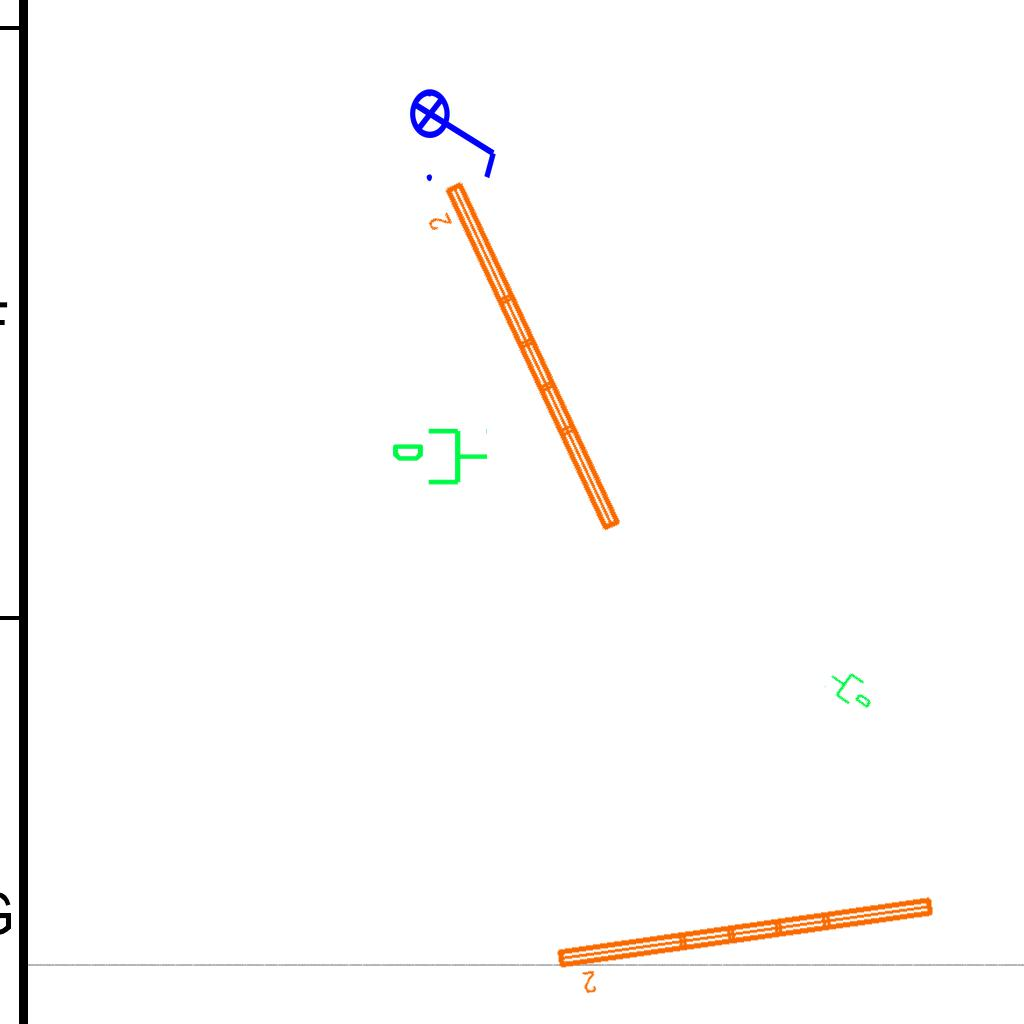Ambulanz_Pendelleuchte_LED: (414, 174, 629, 550), (551, 890, 944, 1000)
Ausschalter_beleuchtet: (408, 75, 504, 187)
Datenanschluss_einfach: (390, 424, 490, 493), (821, 660, 883, 718)
